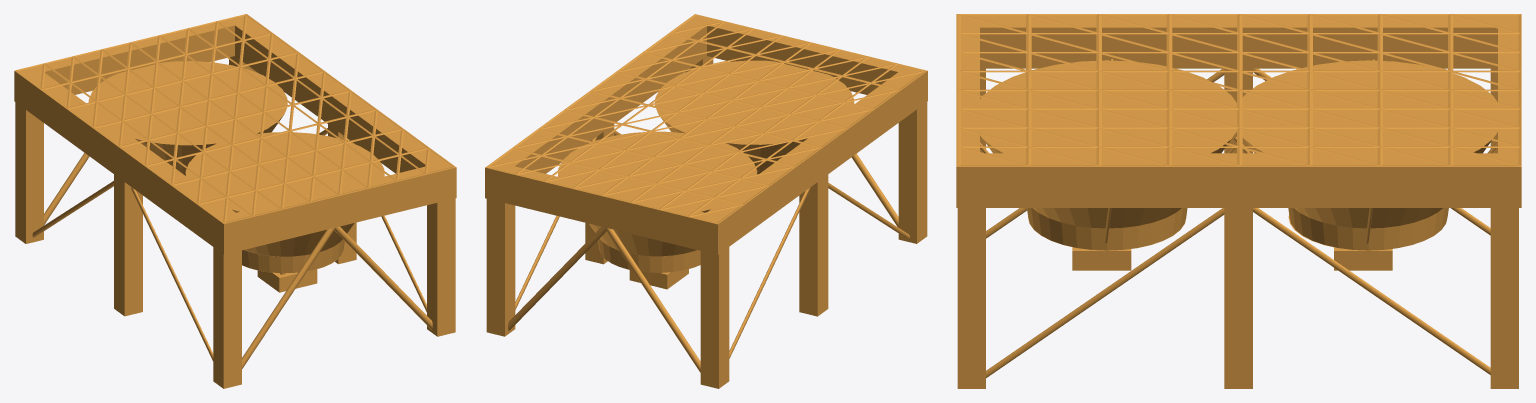
The model's file is cooler.fbx.
3 renders of one model, left to right at view 1: azimuth 30°, elevation 25°; view 2: azimuth 150°, elevation 25°; view 3: azimuth 270°, elevation 25°, orthographic. The views are drawn at different scales.
Parts seen in each view (by area): view 1: Cube.006, Plane, Cylinder.018, Cylinder.001, Cube.002, Cube.004, Cube, Cube.003, Cylinder.005, Cylinder.002, Cube.007, Cylinder.012 (+4 smaller); view 2: Cube.006, Plane, Cylinder.001, Cylinder.018, Cube, Cube.005, Cube.002, Cube.003, Cylinder.006, Cylinder.017, Cylinder.013, Cube.018 (+4 smaller); view 3: Cube.006, Plane, Cylinder.018, Cylinder.001, Cube.001, Cube.004, Cube.005, Cylinder.017, Cylinder.002, Cylinder.011, Cylinder.010, Cube.007 (+2 smaller).
Part boxes in pixels (x1,y1,x2,y2): Cube.006: [14, 14, 456, 254]; Plane: [16, 14, 454, 222]; Cylinder.018: [88, 61, 287, 175]; Cylinder.001: [185, 132, 384, 256]; Cube.002: [213, 247, 241, 388]; Cube.004: [427, 198, 455, 336]; Cube: [15, 102, 43, 243]; Cube.003: [114, 174, 142, 316]; Cylinder.005: [242, 226, 432, 368]; Cylinder.002: [242, 239, 344, 273]; Cube.007: [257, 269, 317, 292]; Cylinder.012: [131, 187, 213, 361]; Cube.006: [485, 14, 927, 254]; Plane: [487, 14, 925, 223]; Cylinder.001: [655, 60, 854, 174]; Cylinder.018: [557, 131, 757, 256]; Cube: [700, 247, 729, 388]; Cube.005: [486, 198, 515, 336]; Cube.002: [898, 102, 927, 243]; Cube.003: [799, 174, 828, 316]; Cylinder.006: [508, 227, 700, 372]; Cylinder.017: [598, 238, 700, 272]; Cylinder.013: [729, 187, 810, 358]; Cube.018: [629, 269, 688, 289]; Cube.006: [956, 14, 1521, 207]; Plane: [958, 14, 1520, 165]; Cylinder.018: [1234, 60, 1497, 228]; Cylinder.001: [980, 60, 1236, 228]; Cube.001: [1224, 208, 1252, 388]; Cube.004: [957, 208, 985, 388]; Cube.005: [1490, 208, 1518, 388]; Cylinder.017: [1288, 208, 1448, 250]; Cylinder.002: [1027, 208, 1187, 250]; Cylinder.011: [986, 208, 1224, 377]; Cylinder.010: [1253, 208, 1490, 374]; Cube.007: [1072, 247, 1131, 270].
Bounding box in the file's own units: 547 × 372 × 854.
